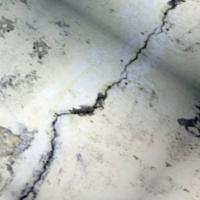crack: (18, 0, 175, 199)
